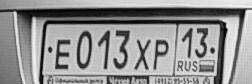license-plateSW: (37, 21, 222, 75)
